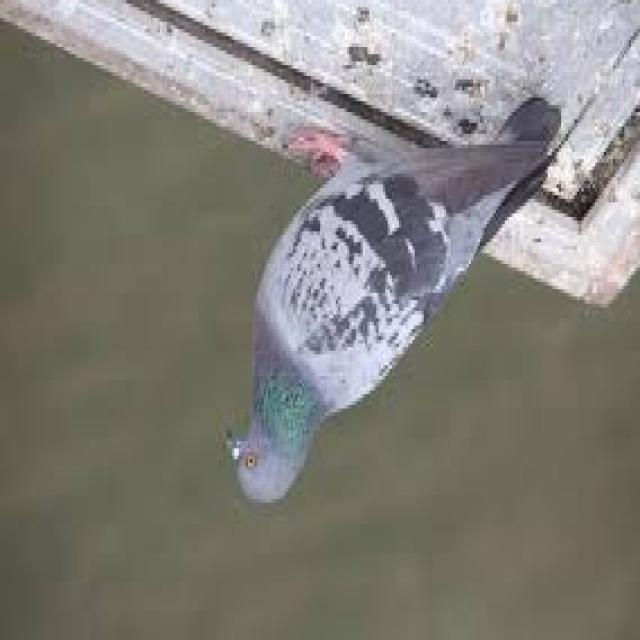pigeon: (222, 106, 572, 524)
